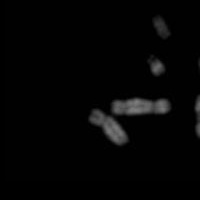chromosome: (88, 108, 128, 146), (110, 99, 171, 116), (146, 58, 167, 77), (193, 93, 200, 142), (196, 53, 200, 78)
